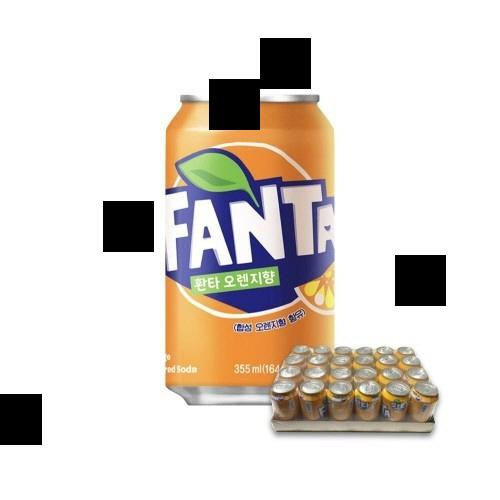fanta_orange: (159, 88, 345, 405)
